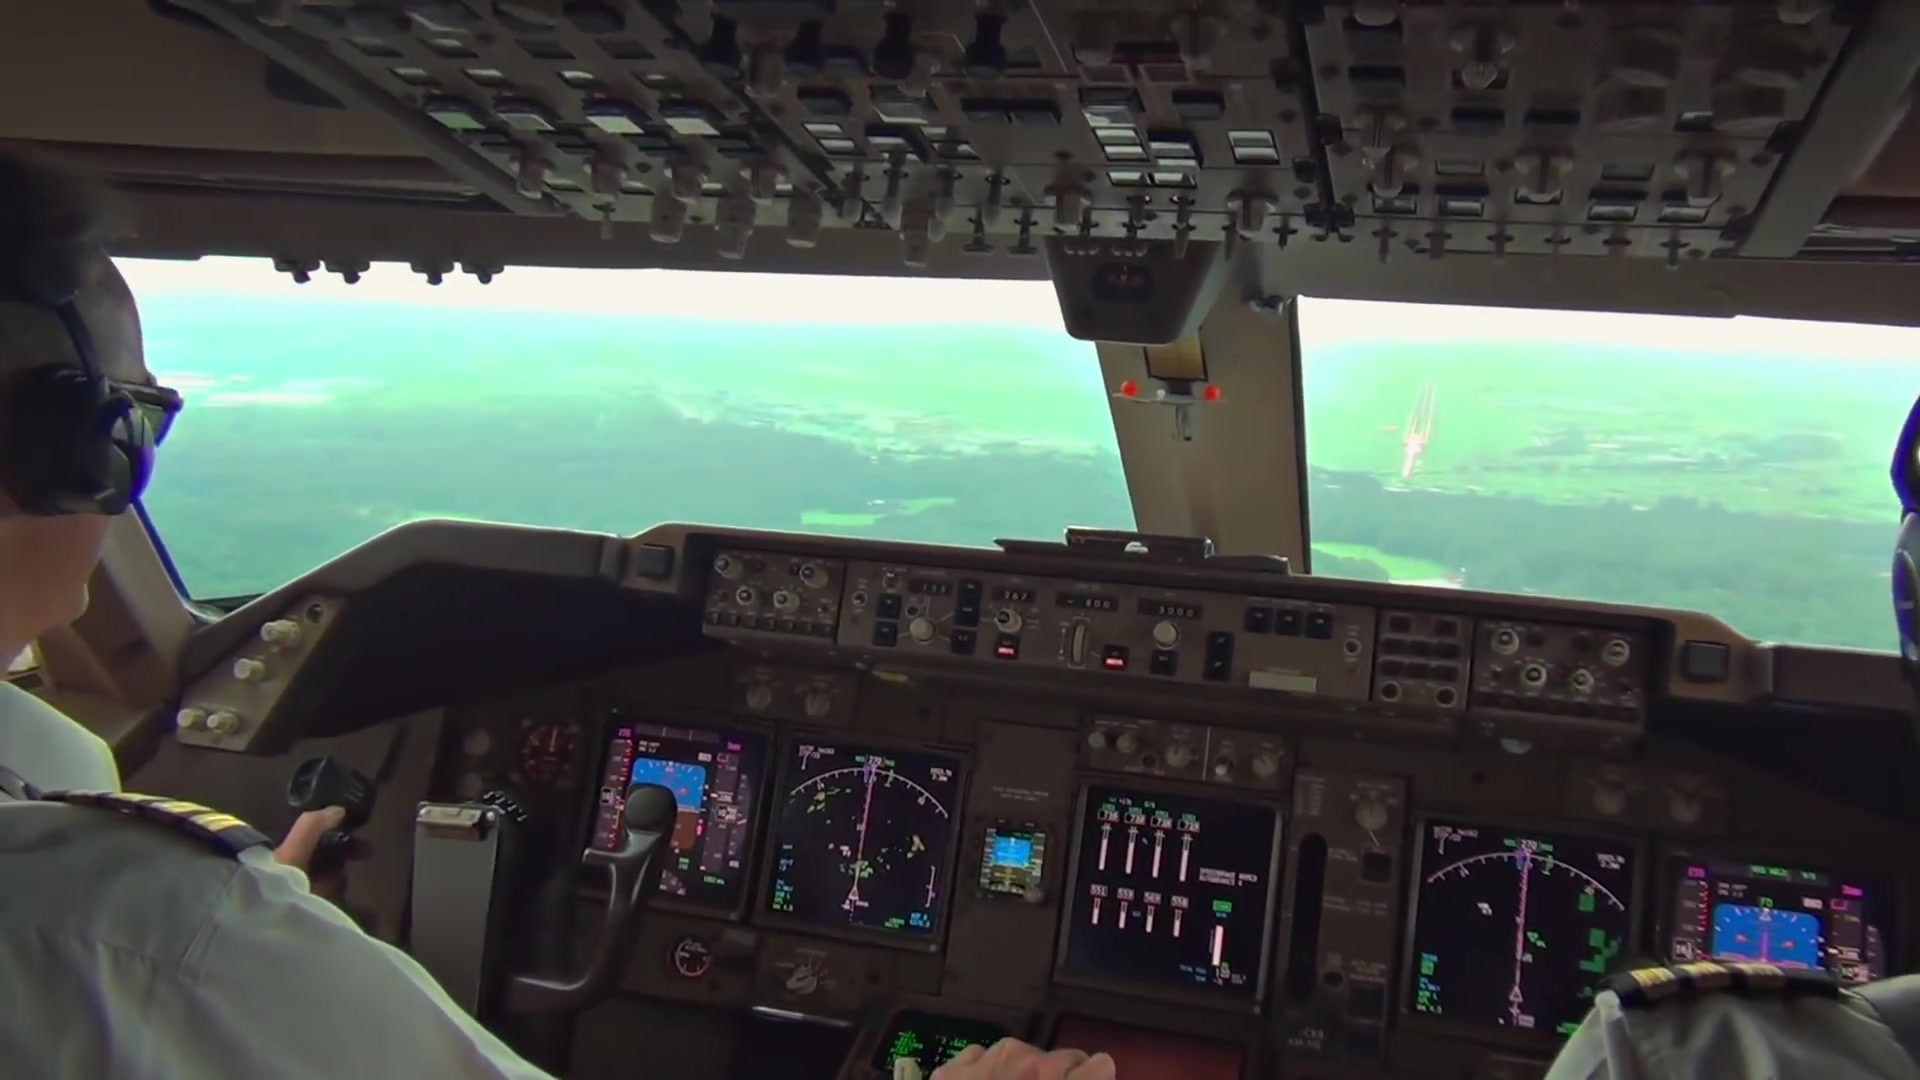runway: (1402, 381, 1437, 446)
